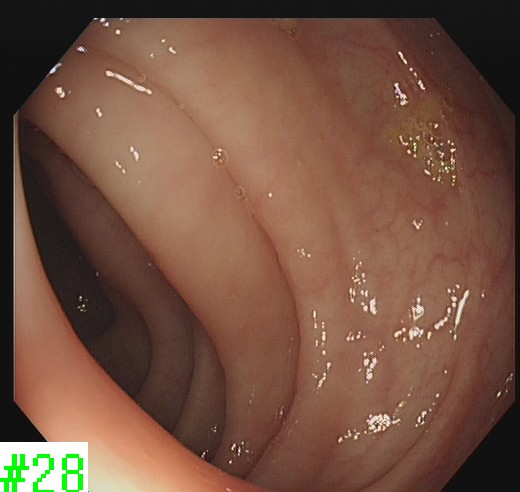others: (285, 233, 338, 292)
